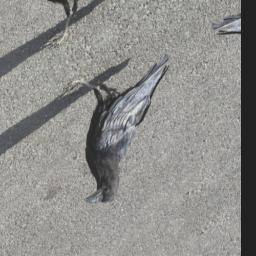Crow: (47, 24, 202, 218)
